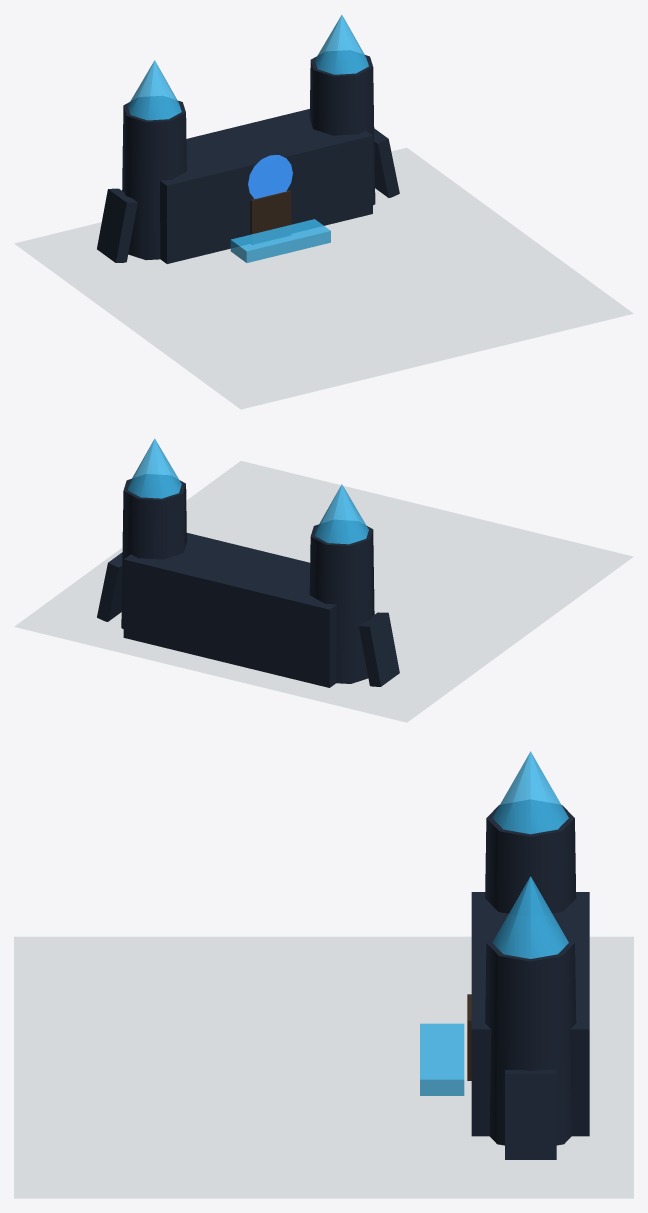
Rendered from dev_02.glb.
3 renders of one model, top to bottom at view 1: azimuth 30°, elevation 25°; view 2: azimuth 150°, elevation 25°; view 3: azimuth 270°, elevation 25°, orthographic. The views are drawn at different scales.
Parts seen in each view (by area): view 1: scenario_base_floor, DEV_02, devias_cathedral_pinnacles (×2), devias_cathedral_buttresses (×2), devias_cathedral_rose_window, devias_cathedral_portal; view 2: scenario_base_floor, DEV_02, devias_cathedral_pinnacles (×2), devias_cathedral_buttresses (×2); view 3: scenario_base_floor, DEV_02, devias_cathedral_pinnacles (×2), devias_cathedral_buttresses.
Boxes of the visible parts, x1,y1,x2,y2 form: scenario_base_floor: (14,147,633,409); DEV_02: (122,51,375,263); devias_cathedral_pinnacles (×2): (127,15,368,120); devias_cathedral_buttresses (×2): (97,128,399,262); devias_cathedral_rose_window: (248,155,292,198); devias_cathedral_portal: (250,190,291,243); scenario_base_floor: (14,461,633,722); DEV_02: (121,475,374,687); devias_cathedral_pinnacles (×2): (128,438,368,544); devias_cathedral_buttresses (×2): (97,552,399,686); scenario_base_floor: (14,936,633,1198); DEV_02: (420,802,589,1145); devias_cathedral_pinnacles (×2): (492,751,568,958); devias_cathedral_buttresses: (505,1070,556,1159).
Bounding box in the file's own units: 42 × 19.06 × 42.
